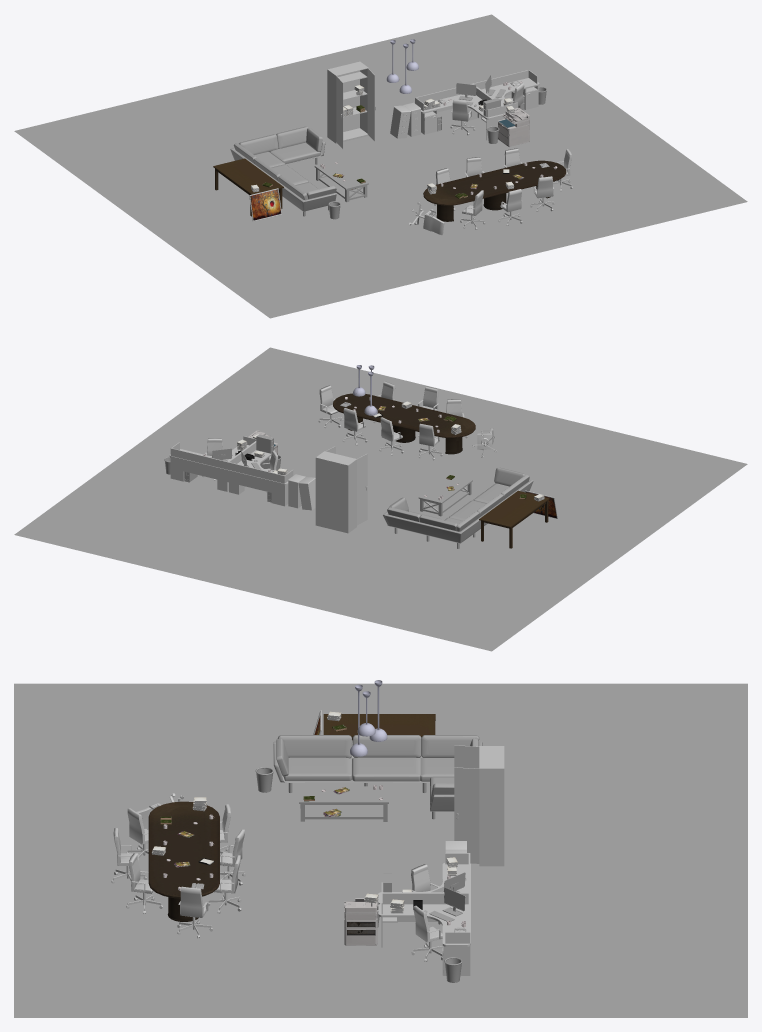
File: Props1.fbx
3 views of the same model, one above another, from view 1: azimuth 30°, elevation 25°; view 2: azimuth 150°, elevation 25°; view 3: azimuth 270°, elevation 25° (orthographic). The views are drawn at different scales.
Visible parts, largest first — view 1: pPlane2, polySurface170, polySurface9, Mesh, polySurface10, polySurface171, polySurface2, SmallProps:Painting, polySurface182, polySurface195, polySurface193, polySurface196 (+1 smaller); view 2: pPlane2, Mesh, polySurface170, polySurface9, polySurface10, polySurface171, polySurface182, polySurface193, polySurface196, polySurface206, polySurface176; view 3: pPlane2, polySurface170, polySurface9, Mesh, polySurface171, polySurface10, polySurface2, polySurface183, polySurface193, polySurface466, polySurface206, polySurface199 (+5 smaller).
Part boxes in pixels (box(x1,y1,x2,y2)): pPlane2: box(14, 14, 747, 318); polySurface170: box(230, 126, 336, 216); polySurface9: box(423, 160, 566, 221); Mesh: box(327, 61, 375, 148); polySurface10: box(213, 158, 283, 216); polySurface171: box(314, 160, 368, 202); polySurface2: box(498, 107, 529, 147); SmallProps:Painting: box(250, 189, 280, 220); polySurface182: box(415, 84, 502, 117); polySurface195: box(437, 83, 500, 131); polySurface193: box(472, 70, 537, 113); polySurface196: box(390, 105, 410, 138); pPlane2: box(14, 347, 747, 651); Mesh: box(315, 446, 367, 533); polySurface170: box(383, 467, 533, 548); polySurface9: box(333, 393, 475, 454); polySurface10: box(479, 490, 549, 548); polySurface171: box(418, 474, 472, 516); polySurface182: box(227, 442, 293, 483); polySurface193: box(170, 436, 256, 469); polySurface196: box(298, 477, 315, 510); polySurface206: box(318, 385, 342, 428); polySurface176: box(227, 471, 271, 492); pPlane2: box(14, 683, 747, 1017); polySurface170: box(273, 735, 482, 819); polySurface9: box(148, 801, 219, 921); Mesh: box(454, 745, 504, 866); polySurface171: box(299, 786, 388, 821); polySurface10: box(323, 714, 435, 740); polySurface2: box(344, 898, 377, 945); polySurface183: box(378, 903, 470, 946); polySurface193: box(381, 893, 470, 943); polySurface466: box(350, 680, 387, 756); polySurface206: box(177, 886, 212, 938); polySurface199: box(411, 905, 442, 961).
Size of the model in its own units: 40.36 by 10 by 37.46.
